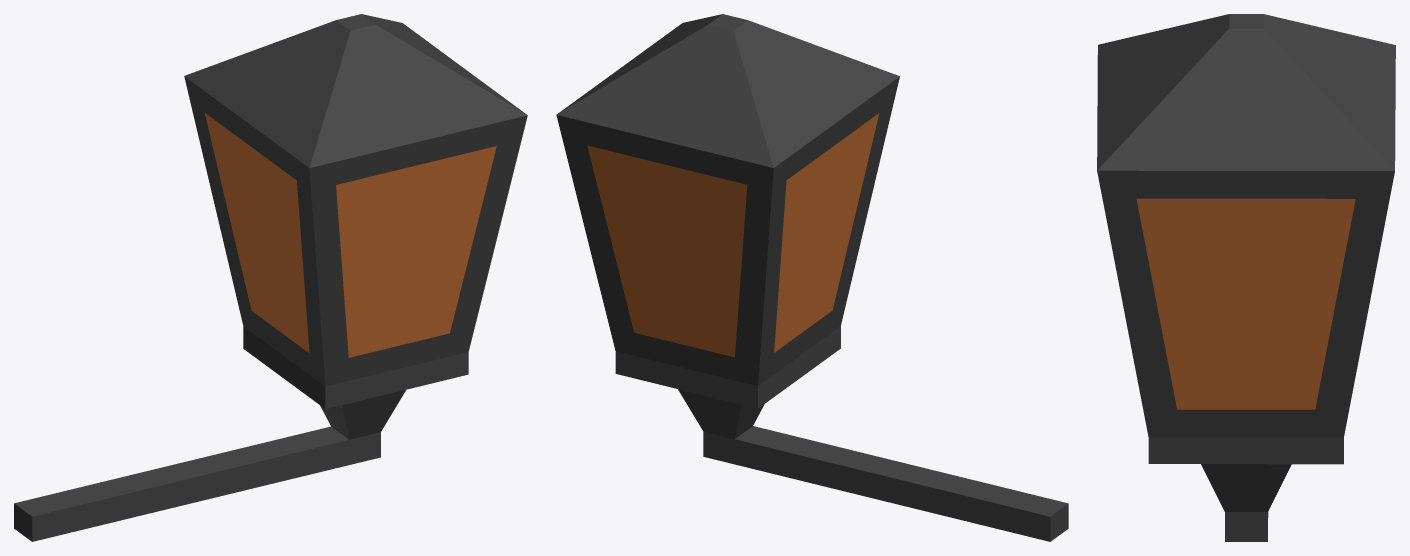
Rendered from AllSky_DemoEnvironment_Light.fbx.
3 views of the same model, side by side, from view 1: azimuth 30°, elevation 25°; view 2: azimuth 150°, elevation 25°; view 3: azimuth 270°, elevation 25° (orthographic). The views are drawn at different scales.
Parts seen in each view (by area): view 1: AllSky_DemoEnvironment_Light; view 2: AllSky_DemoEnvironment_Light; view 3: AllSky_DemoEnvironment_Light.
Part boxes in pixels (x1=…): AllSky_DemoEnvironment_Light: x1=14, y1=14, x2=527, y2=541; AllSky_DemoEnvironment_Light: x1=556, y1=14, x2=1068, y2=541; AllSky_DemoEnvironment_Light: x1=1097, y1=14, x2=1395, y2=541.
Bounding box in the file's own units: 3.35 × 3.13 × 1.66.
